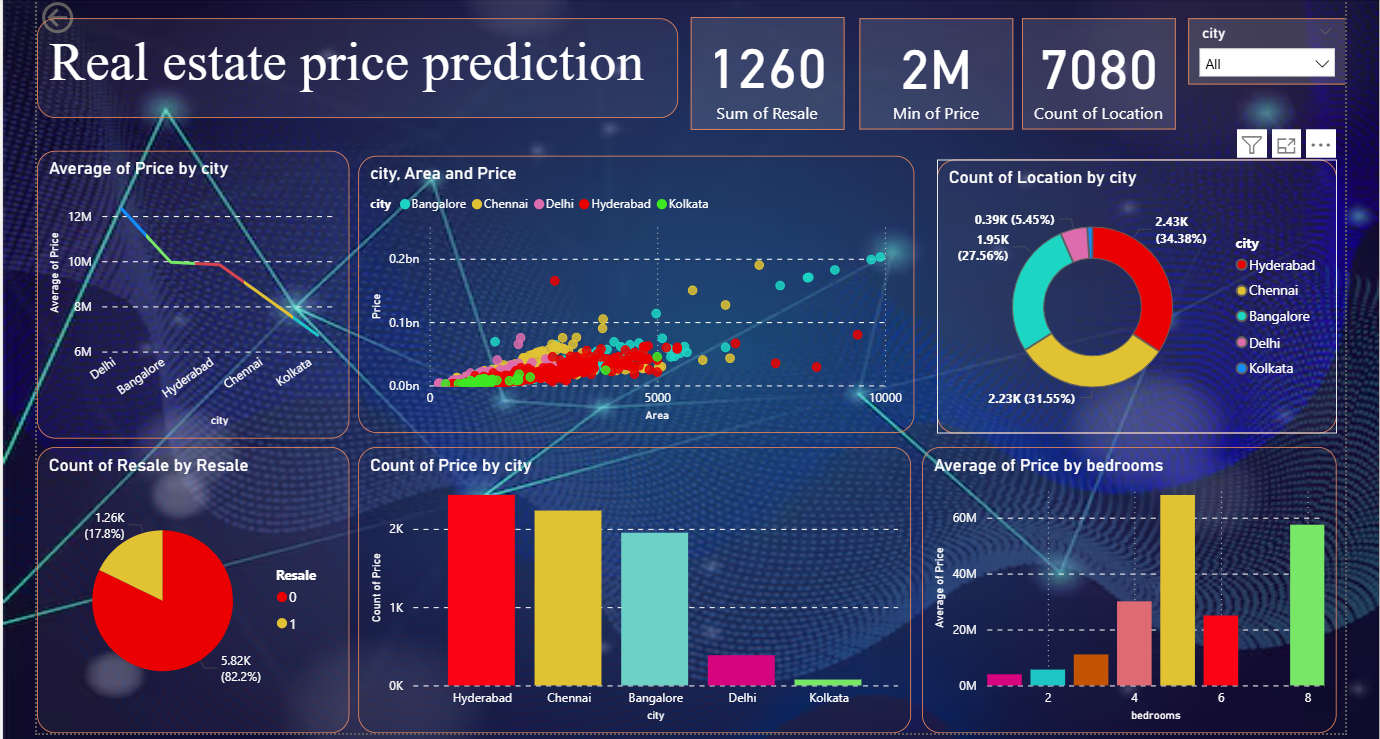

The page's visual inventory and layout, read from the dashboard file:
{"tool":"powerbi","page":{"name":"Page 1","canvas":[1280,720],"ordinal":0},"visuals":[{"type":"actionButton","box":[0,0,100.3,40.4],"z":0},{"type":"columnChart","fields":{"Category":["merged_real_estate_data(1).city"],"Y":["CountNonNull(merged_real_estate_data(1).Price)"]},"box":[314.3,440.2,540.5,280],"z":1000},{"type":"clusteredColumnChart","fields":{"Category":["merged_real_estate_data(1). bedrooms"],"Y":["Avg(merged_real_estate_data(1).Price)"]},"box":[865.8,440.2,406,280],"z":2000},{"type":"scatterChart","fields":{"X":["merged_real_estate_data(1).Area"],"Y":["merged_real_estate_data(1).Price"],"Series":["merged_real_estate_data(1).city"]},"box":[314.3,155.3,544.2,271.5],"z":3000},{"type":"donutChart","fields":{"Category":["merged_real_estate_data(1).city"],"Y":["CountNonNull(merged_real_estate_data(1).Location)"]},"box":[880.4,159,391.3,267.8],"z":4000},{"type":"lineChart","fields":{"Y":["Avg(merged_real_estate_data(1).Price)"],"Category":["merged_real_estate_data(1).city"]},"box":[0,150.4,305.7,281.3],"z":5000},{"type":"pieChart","fields":{"Category":["merged_real_estate_data(1).Resale"],"Y":["CountNonNull(merged_real_estate_data(1).Resale)"]},"box":[0,440.2,305.7,280],"z":7000},{"type":"card","fields":{"Values":["Min(merged_real_estate_data(1).Price)"]},"box":[804.6,20.8,150.4,108.8],"z":8000},{"type":"card","fields":{"Values":["CountNonNull(merged_real_estate_data(1).Location)"]},"box":[963.6,20.8,150.4,108.8],"z":9000},{"type":"card","fields":{"Values":["Sum(merged_real_estate_data(1).Resale)"]},"box":[639.5,19.6,150.4,110.1],"z":10000},{"type":"slicer","fields":{"Values":["merged_real_estate_data(1).city"]},"box":[1126.2,20.8,154.1,64.8],"z":11000},{"type":"textbox","box":[0,20.8,627.3,97.8],"z":12000}]}

Visuals, with their boxes on the page's 1280x720 design canvas (x1, y1, x2, y2). These are canvas units, not pixel positions in the 1380x739 screenshot, which may show the page scaled, cropped or inside an application window:
actionButton: [0,0,100,40]
columnChart - merged_real_estate_data(1).city x CountNonNull(merged_real_estate_data(1).Price): [314,440,855,720]
clusteredColumnChart - merged_real_estate_data(1). bedrooms x Avg(merged_real_estate_data(1).Price): [866,440,1272,720]
scatterChart - merged_real_estate_data(1).Area x merged_real_estate_data(1).Price: [314,155,858,427]
donutChart - merged_real_estate_data(1).city x CountNonNull(merged_real_estate_data(1).Location): [880,159,1272,427]
lineChart - Avg(merged_real_estate_data(1).Price) x merged_real_estate_data(1).city: [0,150,306,432]
pieChart - merged_real_estate_data(1).Resale x CountNonNull(merged_real_estate_data(1).Resale): [0,440,306,720]
card - Min(merged_real_estate_data(1).Price): [805,21,955,130]
card - CountNonNull(merged_real_estate_data(1).Location): [964,21,1114,130]
card - Sum(merged_real_estate_data(1).Resale): [640,20,790,130]
slicer - merged_real_estate_data(1).city: [1126,21,1280,86]
textbox: [0,21,627,119]
